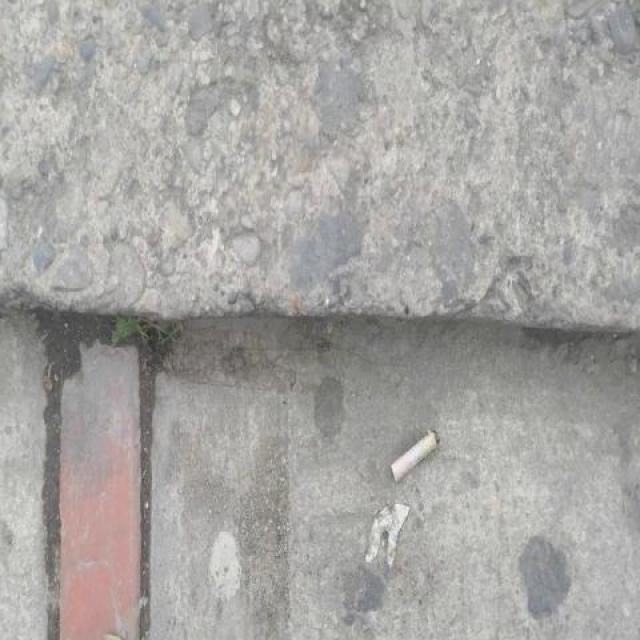non-organic waste: (386, 423, 445, 488)
